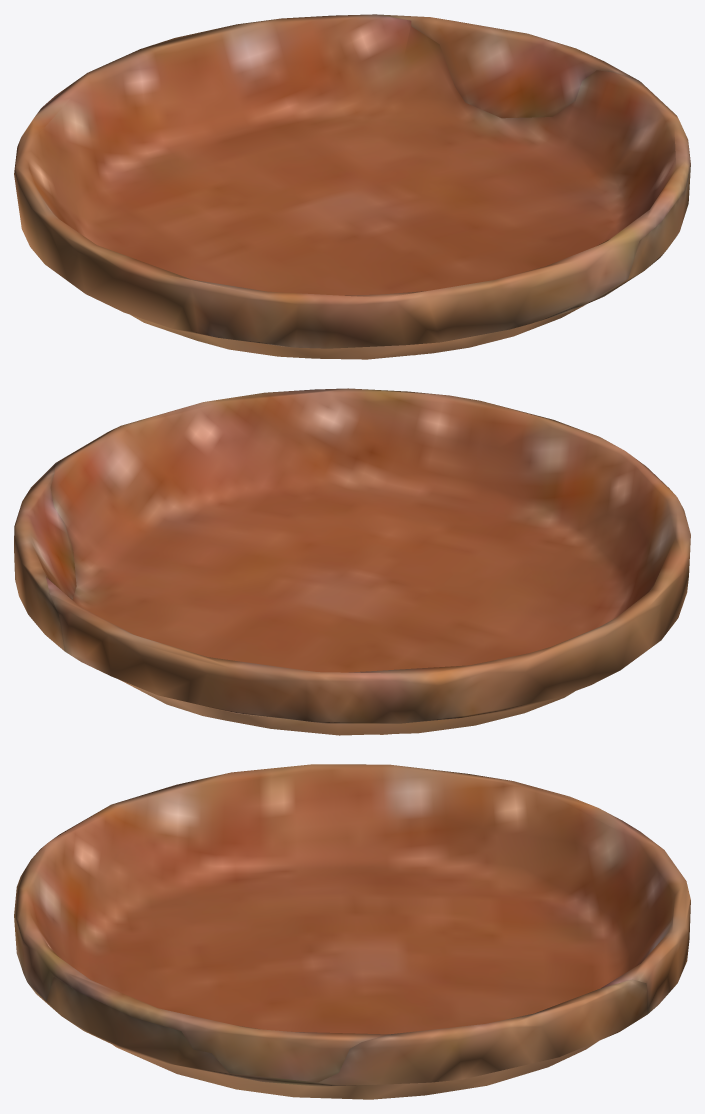
File: Cole_Hardware_Plant_Saucer_Glazed_9-medium.glb
3 views of the same model, one above another, from view 1: azimuth 30°, elevation 25°; view 2: azimuth 150°, elevation 25°; view 3: azimuth 270°, elevation 25° (orthographic).
Visible parts, largest first — view 1: Cole_Hardware_Plant_Saucer_Glazed_9; view 2: Cole_Hardware_Plant_Saucer_Glazed_9; view 3: Cole_Hardware_Plant_Saucer_Glazed_9.
Part boxes in pixels (x1=…): Cole_Hardware_Plant_Saucer_Glazed_9: x1=14, y1=14, x2=690, y2=359; Cole_Hardware_Plant_Saucer_Glazed_9: x1=14, y1=388, x2=690, y2=735; Cole_Hardware_Plant_Saucer_Glazed_9: x1=14, y1=764, x2=690, y2=1099.
Bounding box in the file's own units: 0.2282 × 0.0364 × 0.2284.
Materials: 1 (1 with a texture image).
